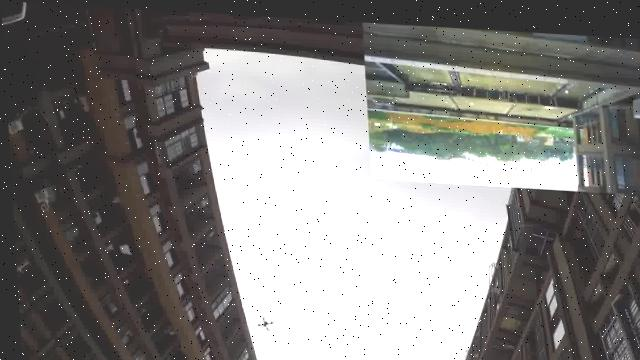drone: (247, 311, 272, 332)
